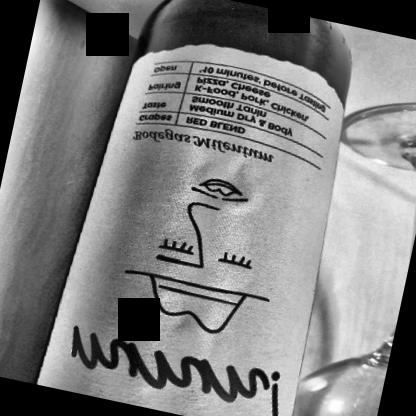umm: (35, 17, 364, 415)
